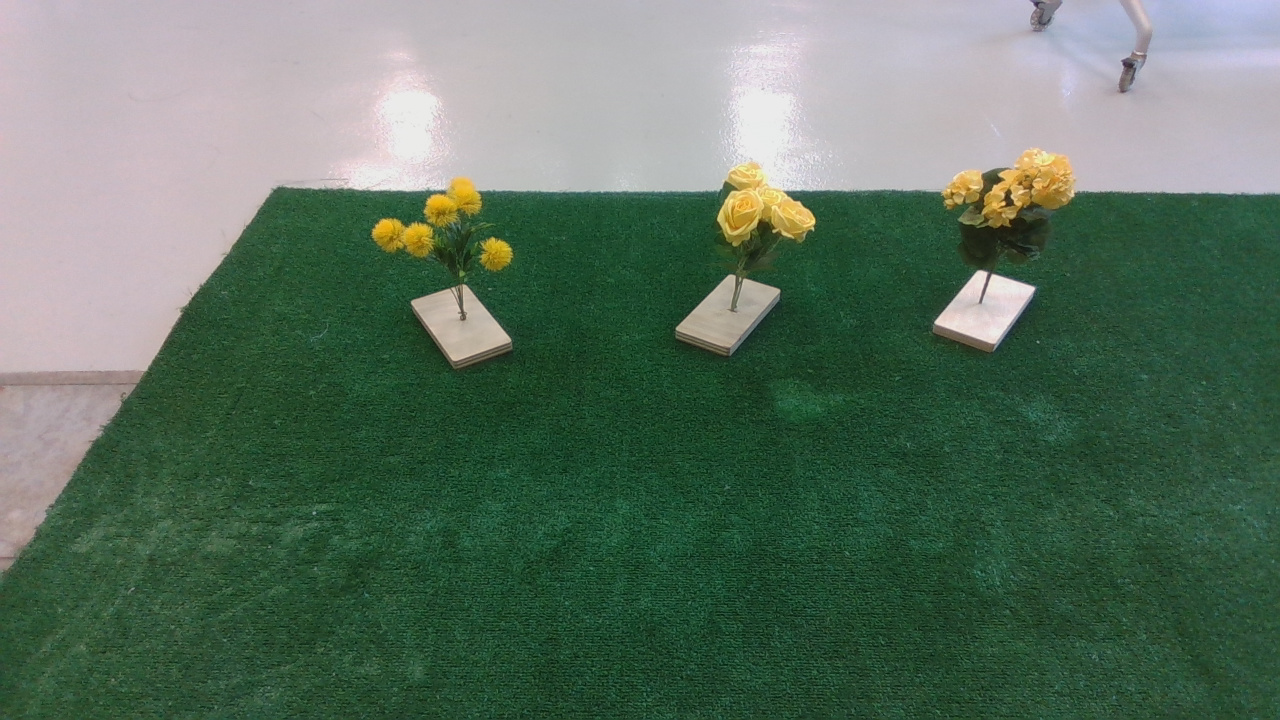dandelion: (374, 178, 539, 288)
geranium: (942, 147, 1091, 277)
rose: (712, 159, 824, 285)
